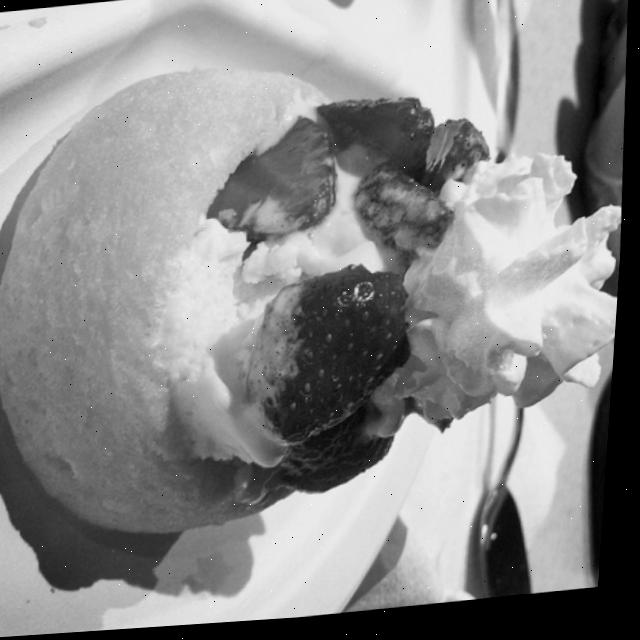蛋糕甜品: (0, 0, 638, 617)
